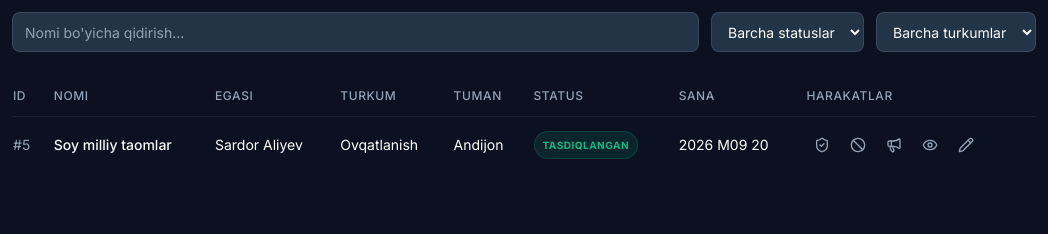
Test: AdminBusinessesView — business operations › surfaces a backend conflict (409) as an error toast
Check: the text "Soy milliy taomlar" is shown, box [54, 136, 172, 153]
Click the button named "To'xtatish" at (858, 145), box [842, 129, 874, 161]
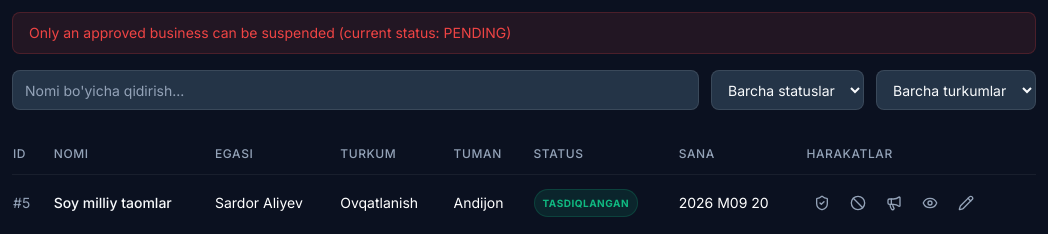
Check: the text "Only an approved business can be suspended (current status: PENDING)" is shown, box [12, 12, 1036, 54]
